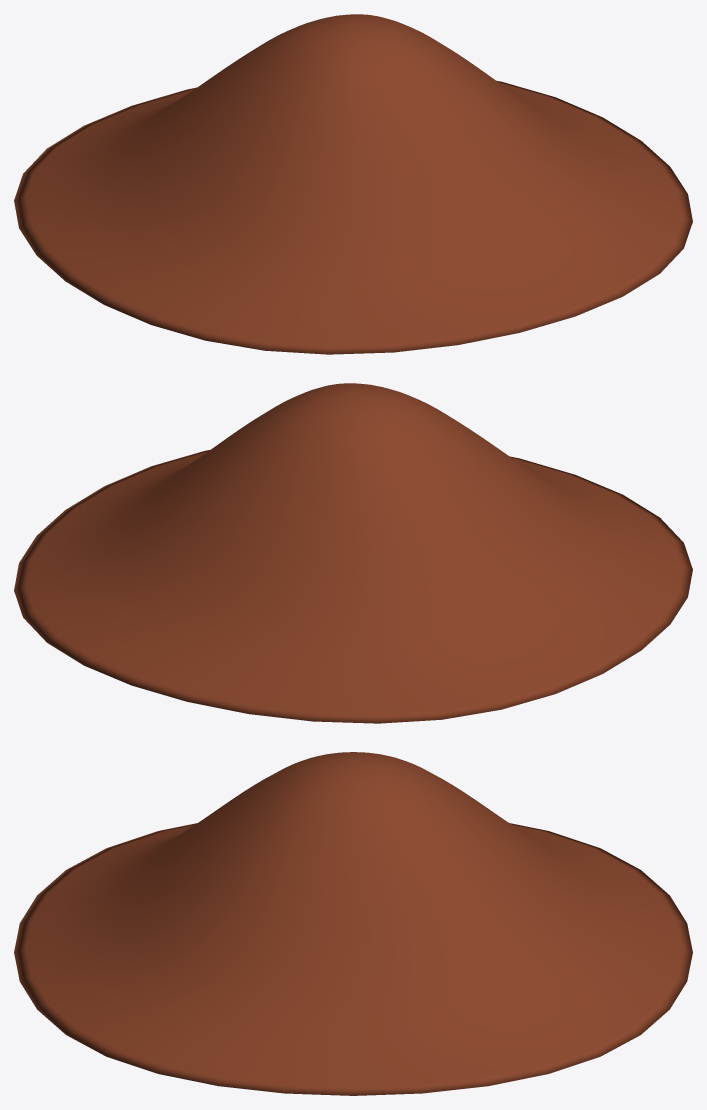
The model's file is mole_02.fbx.
3 views of the same model, one above another, from view 1: azimuth 30°, elevation 25°; view 2: azimuth 150°, elevation 25°; view 3: azimuth 270°, elevation 25° (orthographic). The views are drawn at different scales.
Parts seen in each view (by area): view 1: Cube.028; view 2: Cube.028; view 3: Cube.028.
Part boxes in pixels (x1,y1,x2,y2): Cube.028: [14, 14, 692, 354]; Cube.028: [14, 383, 692, 723]; Cube.028: [14, 752, 692, 1095].
Size of the model in its own units: 53.85 by 16.51 by 53.85.
